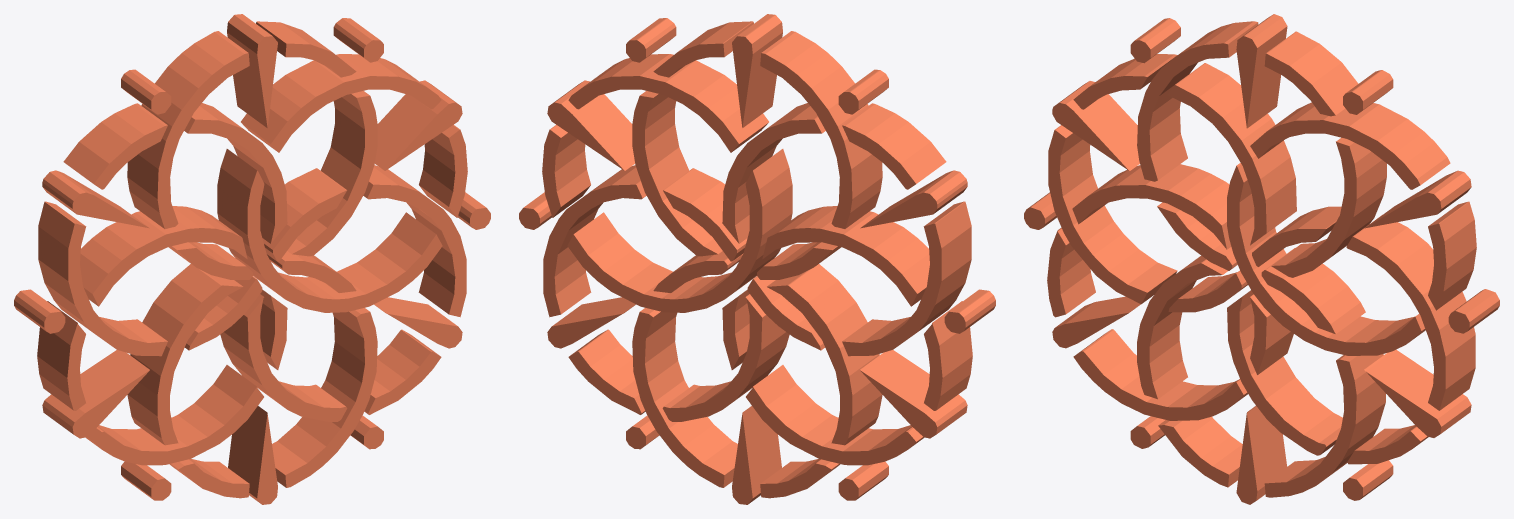
Rendered from wick-radical-inclusion.glb.
3 renders of one model, left to right at view 1: azimuth 30°, elevation 25°; view 2: azimuth 150°, elevation 25°; view 3: azimuth 330°, elevation 25°, orthographic.
Size of the model in its own units: 0.1082 by 0.1085 by 0.0127.
